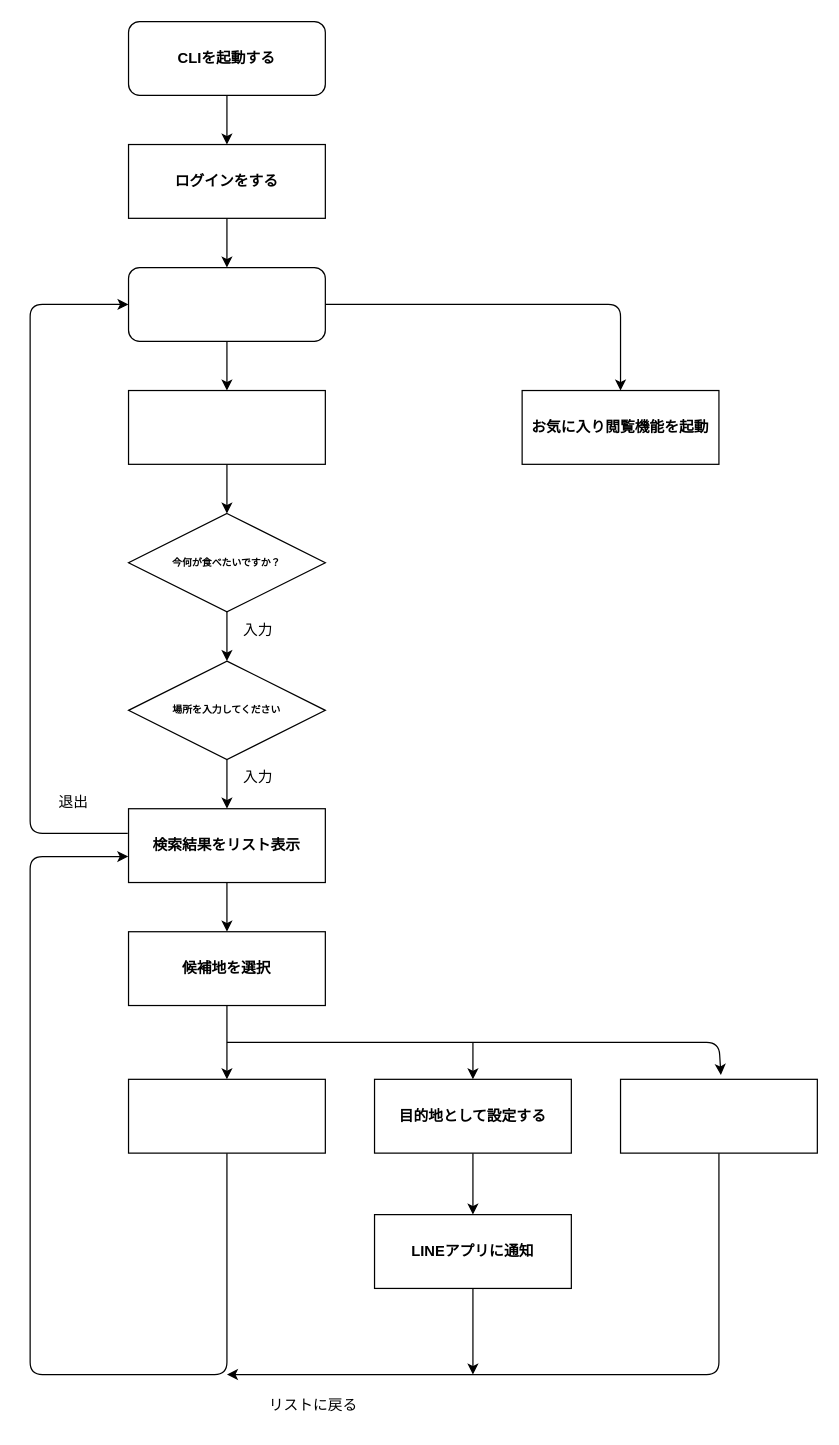
The diagram is 839 pixels wide and 1445 high, and some of its shapes have lost their labels. The shapes that lost their labels are listed below. From the top down, each one's centre as x and y in pixels, then its label:
At pixel 226 303: "ホーム画面へ遷移".
At pixel 226 426: "検索機能を起動".
At pixel 226 1115: "お気に入りに追加".
At pixel 718 1115: "キャンセル".
